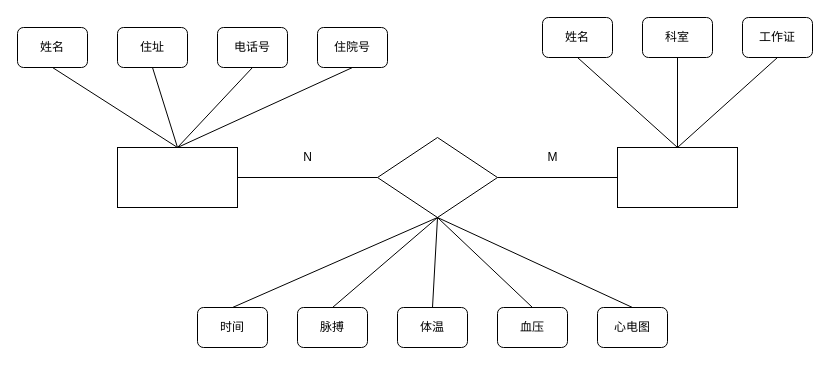
Some shapes in this 830 by 365 pixel diagram are drawn without their labels. The shapes that lost their labels are listed below. From the top down, each one's centre as x and y in pixels, then its label:
the point at 177,177: 病人
the point at 437,177: 监护
the point at 677,177: 护士
